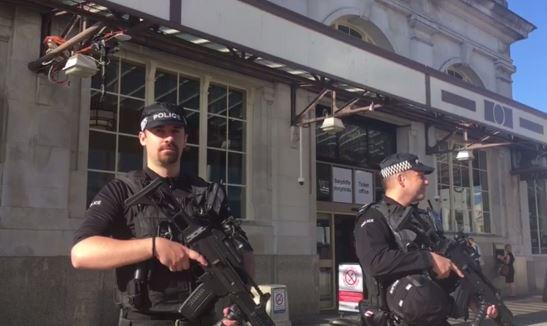rifle: (126, 176, 282, 326), (391, 207, 521, 326)
